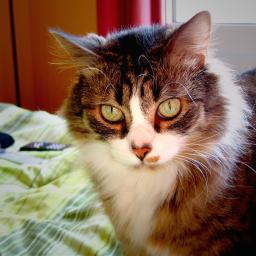catnose: (130, 145, 152, 161)
